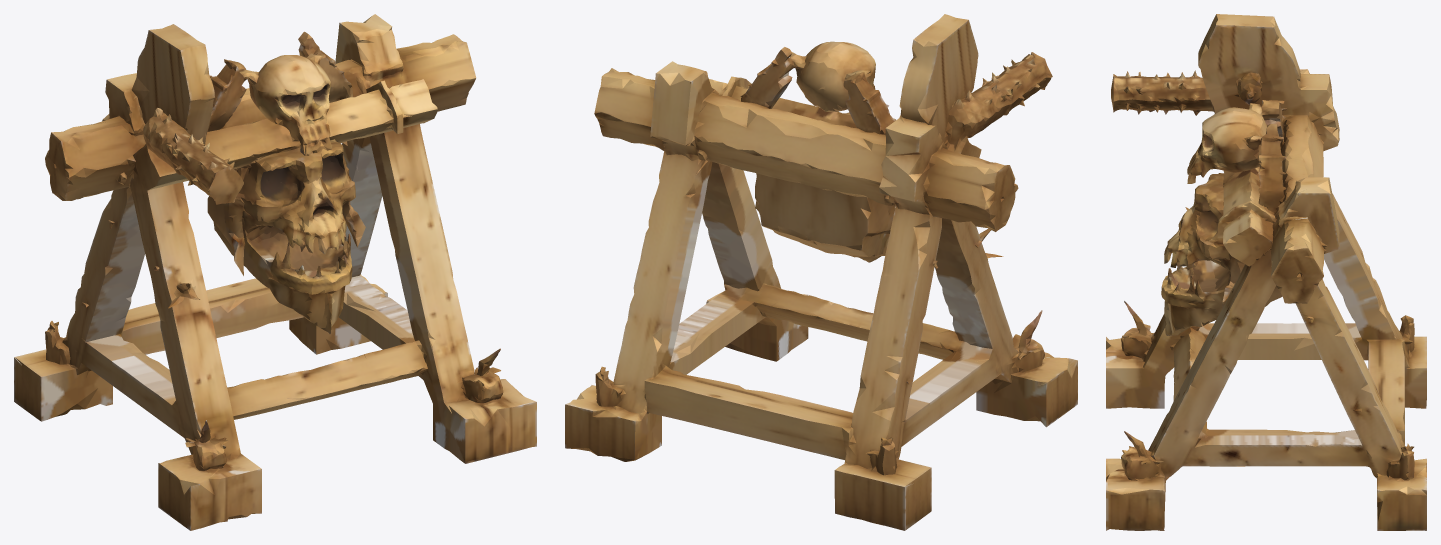
File: orc_catapult.glb
The picture shows the model from 3 angles, left to right: view 1: azimuth 30°, elevation 25°; view 2: azimuth 150°, elevation 25°; view 3: azimuth 270°, elevation 25°; orthographic projection. The views are drawn at different scales.
Parts seen in each view (by area): view 1: orc_catapult; view 2: orc_catapult; view 3: orc_catapult.
Boxes of the visible parts, box(x1,y1,x2,y2) form: orc_catapult: box(14, 14, 536, 530); orc_catapult: box(565, 14, 1077, 530); orc_catapult: box(1106, 14, 1426, 530).
Size of the model in its own units: 1.89 by 1.88 by 1.42.
Materials: 1 (1 with a texture image).
